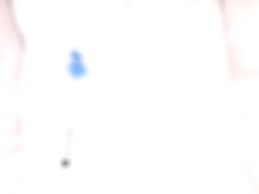ink: (67, 47, 87, 81)
